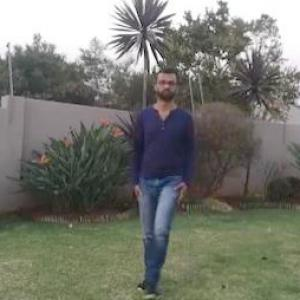follow: (129, 68, 190, 276)
